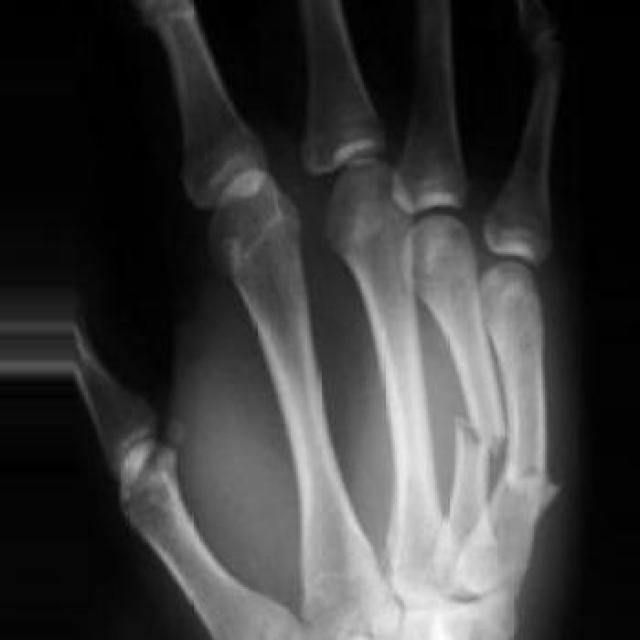Fracture: (508, 454, 572, 508), (453, 410, 509, 460)
